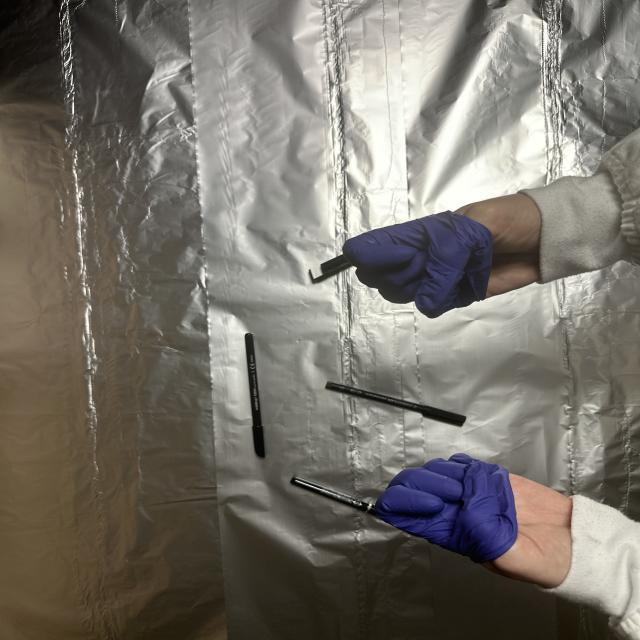glove_partial: (370, 447, 579, 591), (340, 194, 551, 320)
